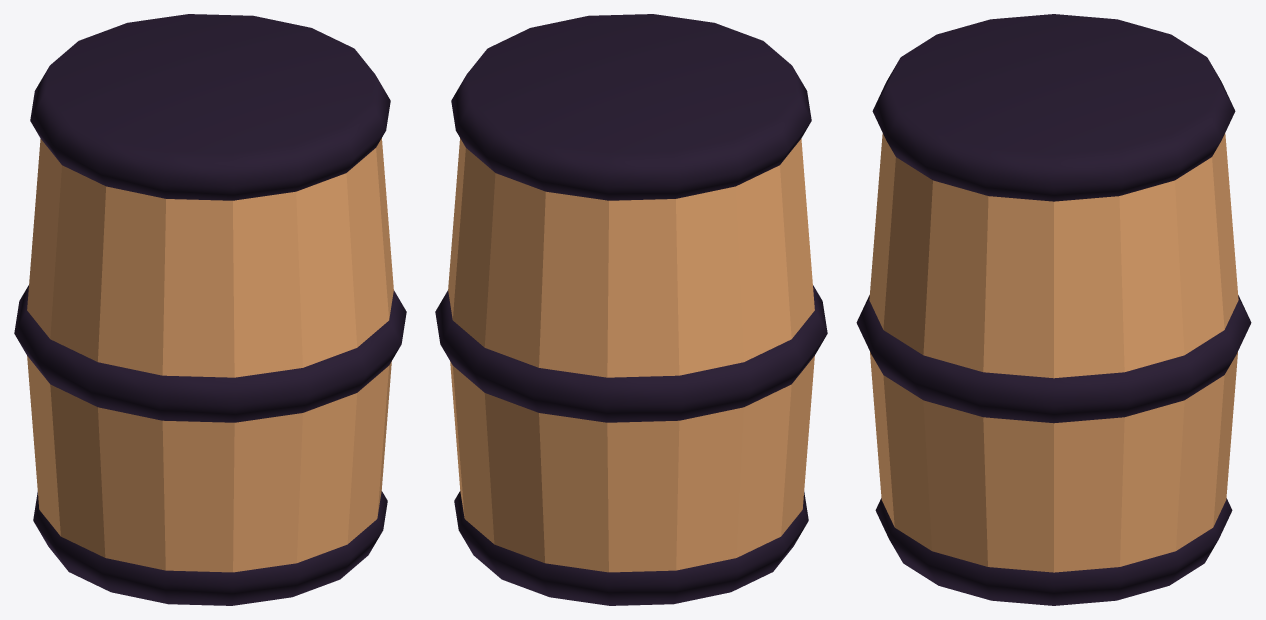
Rendered from barrel.glb.
The picture shows the model from 3 angles, left to right: view 1: azimuth 30°, elevation 25°; view 2: azimuth 150°, elevation 25°; view 3: azimuth 270°, elevation 25°; orthographic projection.
Parts seen in each view (by area): view 1: Cylinder.001; view 2: Cylinder.001; view 3: Cylinder.001.
Boxes of the visible parts, left/top/right/bottom form: Cylinder.001: left=14, top=14, right=406, bottom=605; Cylinder.001: left=435, top=14, right=827, bottom=605; Cylinder.001: left=856, top=14, right=1251, bottom=605.
Size of the model in its own units: 4.31 by 5.45 by 4.31.
